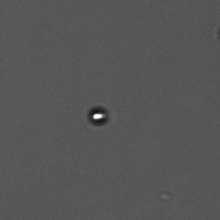Living Cell: (86, 104, 109, 126)
